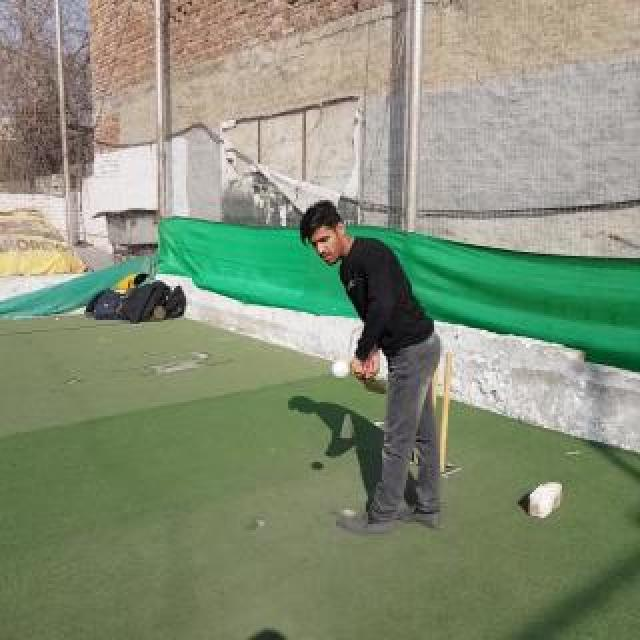ball: (332, 362, 350, 380)
bat: (354, 364, 388, 394)
